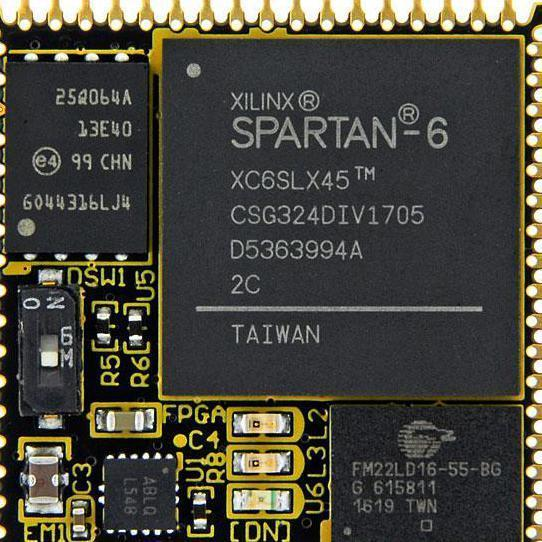Capacitor: (91, 405, 160, 435), (69, 496, 92, 541)
Connector: (14, 0, 522, 35), (523, 35, 541, 541)
IC: (161, 39, 518, 398), (6, 51, 147, 264), (330, 404, 524, 541), (102, 453, 175, 533)
Led: (226, 448, 293, 476), (229, 407, 294, 434), (231, 487, 294, 511)
Resistor: (122, 303, 148, 353), (187, 486, 210, 537), (90, 301, 114, 349)
Switch: (15, 286, 81, 410)
